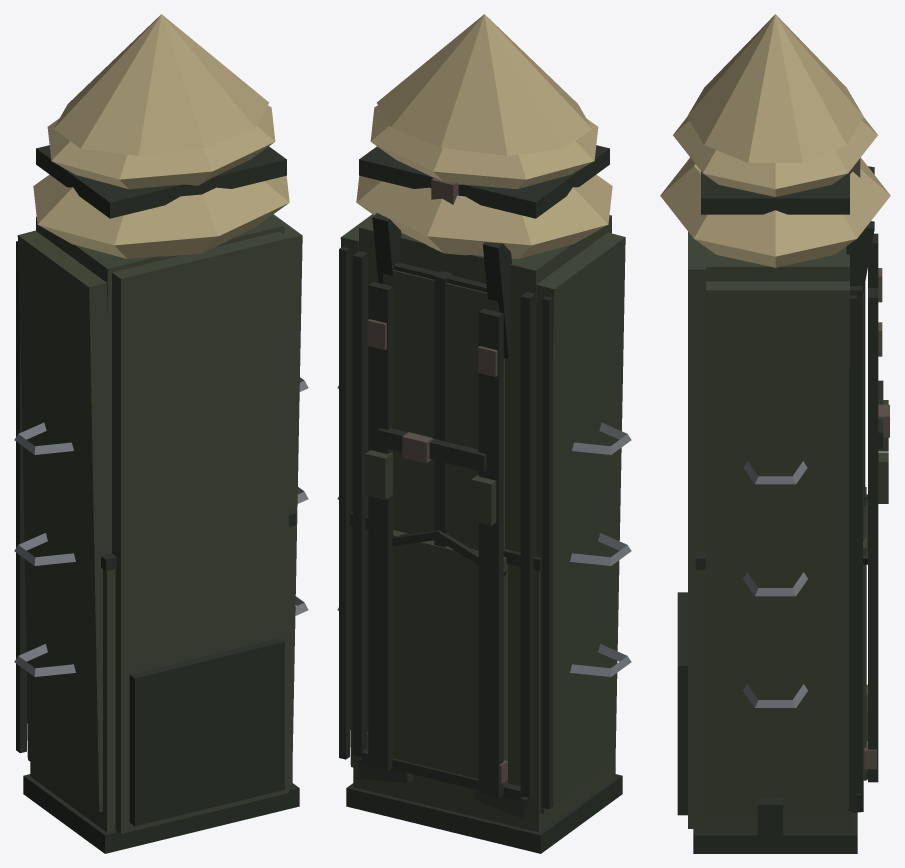
The model's file is paratrooper_basket.glb.
3 renders of one model, left to right at view 1: azimuth 30°, elevation 25°; view 2: azimuth 150°, elevation 25°; view 3: azimuth 270°, elevation 25°, orthographic.
Visible parts, largest first — view 1: 064-parachute; view 2: 064-parachute; view 3: 064-parachute.
Boxes of the visible parts, x1,y1,x2,y2 form: 064-parachute: [14, 14, 308, 853]; 064-parachute: [337, 14, 631, 853]; 064-parachute: [660, 14, 890, 853].
Size of the model in its own units: 0.62 by 1.7 by 0.4488.
